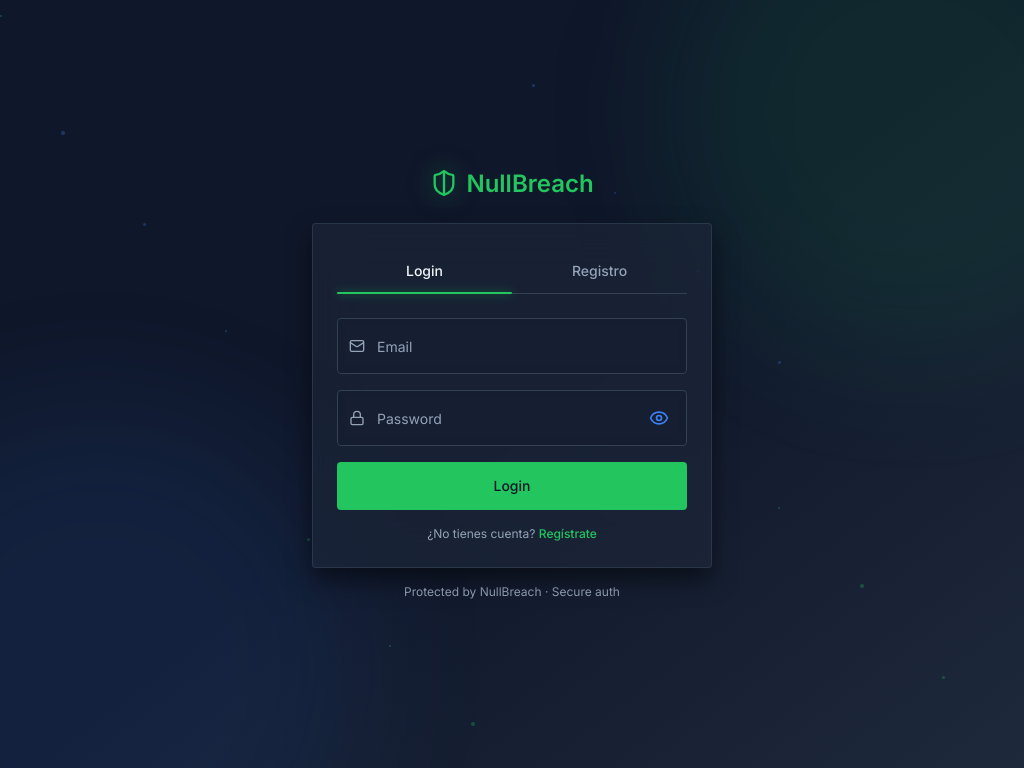
Scenario: <Login /> › shows validation errors when login submitted empty
Click the button "Login".
click(512, 486)  # box [337,462,687,510]
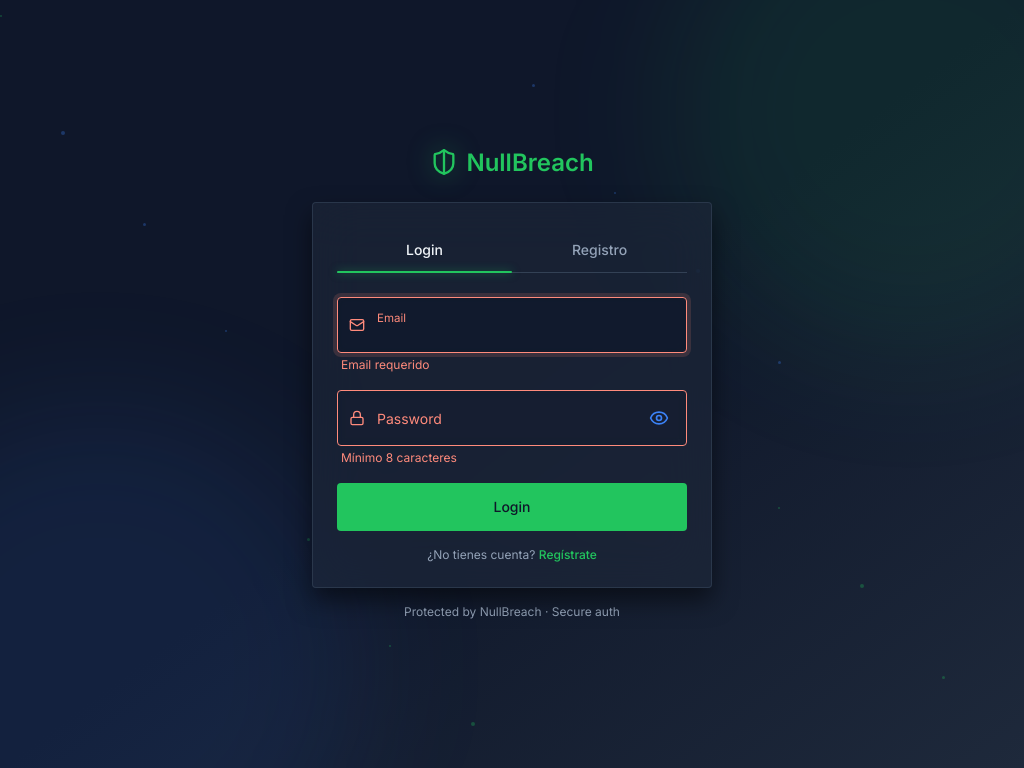
Now the text "Email requerido" is shown, box [341,357,430,372]
Now the text "Mínimo 8 caracteres" is shown, box [341,450,457,465]
